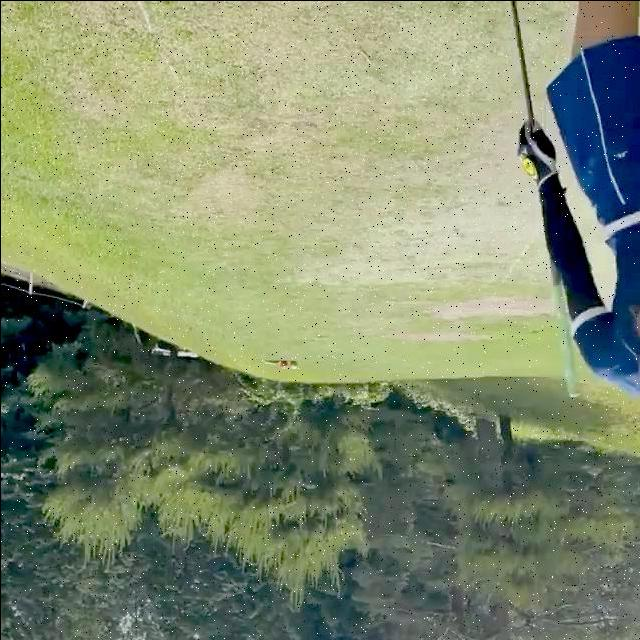golf club-handle: (510, 1, 579, 399)
